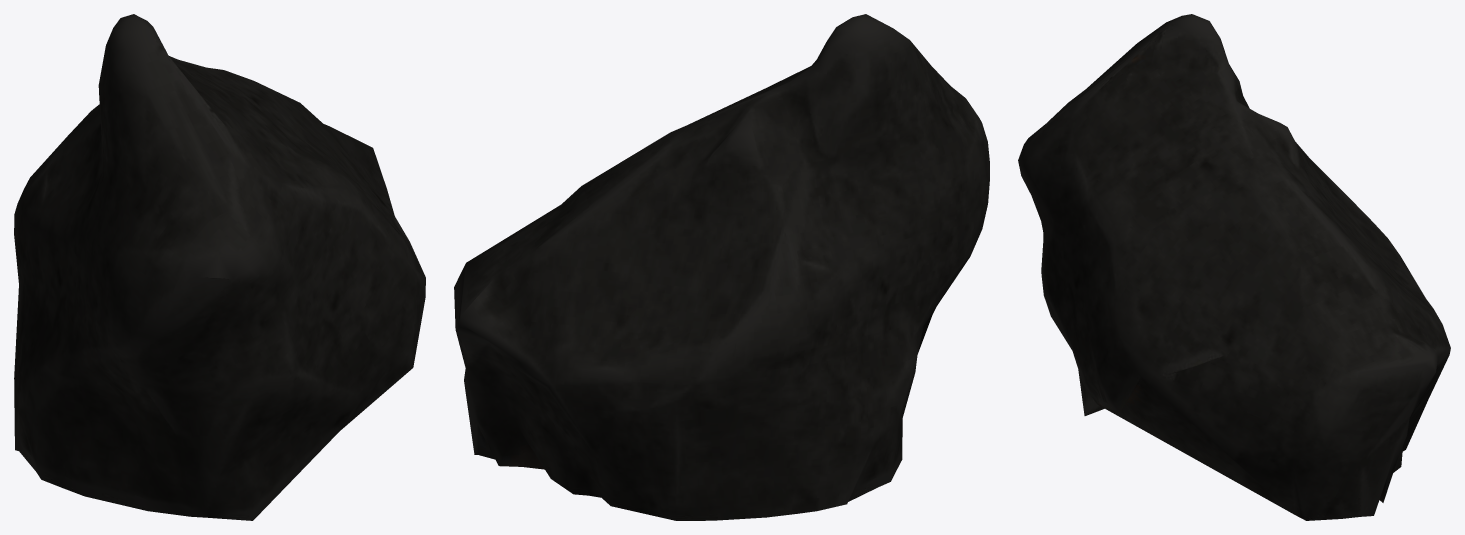
Rendered from HolderOfPepitas.fbx.
3 views of the same model, side by side, from view 1: azimuth 30°, elevation 25°; view 2: azimuth 150°, elevation 25°; view 3: azimuth 270°, elevation 25° (orthographic). The views are drawn at different scales.
Parts seen in each view (by area): view 1: Pepitas; view 2: Pepitas; view 3: Pepitas.
Part boxes in pixels (<box>): Pepitas: <box>14,14,425,520</box>; Pepitas: <box>454,14,989,520</box>; Pepitas: <box>1018,14,1450,520</box>.
Bounding box in the file's own units: 10.51 × 11.24 × 11.62.
